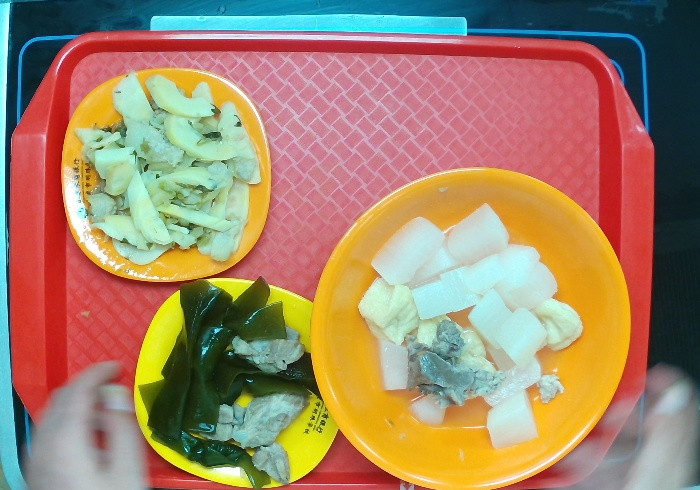YKMZ-Huang_Se_Fang_Die: (133, 277, 342, 490)
YKMZ-Ju_Se_Fang_Die: (59, 65, 274, 283)
YKMZ-Ju_Se_Tang_Wan: (309, 166, 632, 490)
